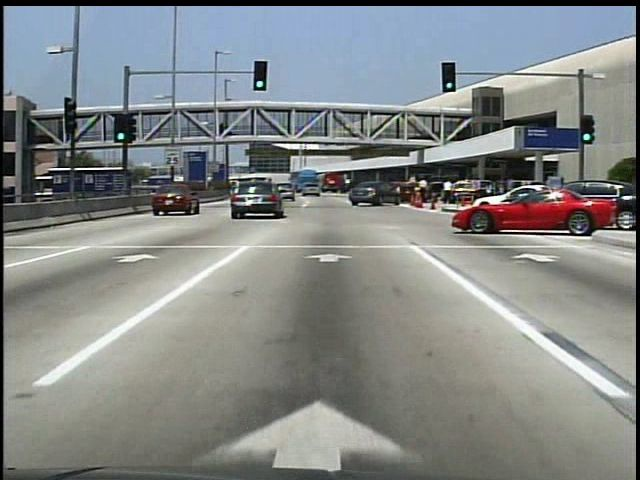person: (415, 174, 432, 210), (482, 181, 497, 216), (440, 178, 456, 205), (219, 122, 228, 139)
